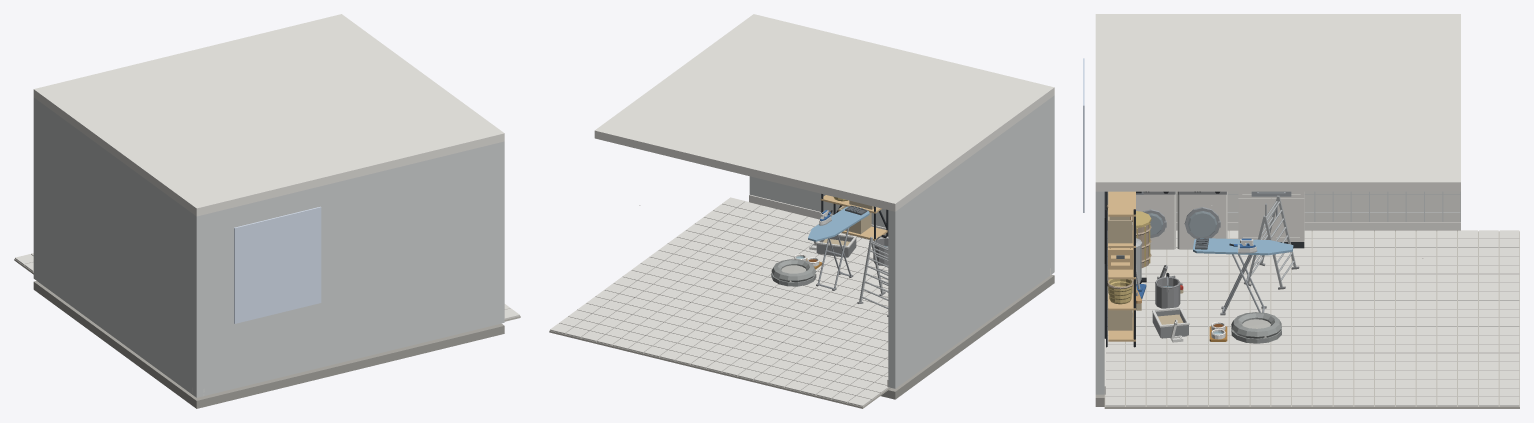
The model's file is SM_LPI_Room_Utility.fbx.
3 renders of one model, left to right at view 1: azimuth 30°, elevation 25°; view 2: azimuth 150°, elevation 25°; view 3: azimuth 270°, elevation 25°, orthographic. The views are drawn at different scales.
Visible parts, largest first — view 1: SM_LPI_Room_Utility, SM_LPI_Room_UtilityGlass; view 2: SM_LPI_Room_Utility, SM_LPI_Struct_Floor_06.005, SM_LPI_Struct_Floor_06.025, SM_LPI_Struct_Floor_06.015, SM_LPI_Struct_Floor_06.020, SM_LPI_Struct_Floor_06.010, SM_LPI_Struct_Floor_06.014, SM_LPI_Struct_Floor_06.022, SM_LPI_Struct_Floor_06.023, SM_LPI_Struct_Floor_06.024, SM_LPI_Struct_Floor_06.019, SM_LPI_Struct_Floor_06.009 (+15 smaller); view 3: SM_LPI_Room_Utility, SM_LPI_Struct_Floor_06.022, SM_LPI_Struct_Floor_06.023, SM_LPI_Struct_Floor_06.024, SM_LPI_Struct_Floor_06.025, SM_LPI_Struct_Floor_06.021, SM_LPI_Struct_Floor_06.009, SM_LPI_Struct_Floor_06.004, SM_LPI_Struct_Floor_06.014, SM_LPI_Struct_Floor_06.019, SM_LPI_Kitchen_SinkBase_01.001, SM_LPI_Struct_Floor_06.005 (+28 smaller).
Part boxes in pixels (bbox=[...]): SM_LPI_Room_Utility: bbox=[33, 14, 504, 408]; SM_LPI_Room_UtilityGlass: bbox=[234, 206, 321, 323]; SM_LPI_Room_Utility: bbox=[594, 14, 1054, 399]; SM_LPI_Struct_Floor_06.005: bbox=[800, 364, 890, 408]; SM_LPI_Struct_Floor_06.025: bbox=[549, 303, 647, 347]; SM_LPI_Struct_Floor_06.015: bbox=[674, 334, 772, 378]; SM_LPI_Struct_Floor_06.020: bbox=[612, 318, 710, 362]; SM_LPI_Struct_Floor_06.010: bbox=[737, 349, 835, 393]; SM_LPI_Struct_Floor_06.014: bbox=[711, 307, 808, 349]; SM_LPI_Struct_Floor_06.022: bbox=[658, 224, 756, 265]; SM_LPI_Struct_Floor_06.023: bbox=[622, 250, 719, 292]; SM_LPI_Struct_Floor_06.024: bbox=[586, 277, 683, 318]; SM_LPI_Struct_Floor_06.019: bbox=[649, 292, 746, 333]; SM_LPI_Struct_Floor_06.009: bbox=[774, 323, 871, 364]; SM_LPI_Room_Utility: bbox=[1095, 14, 1460, 406]; SM_LPI_Struct_Floor_06.022: bbox=[1187, 370, 1270, 408]; SM_LPI_Struct_Floor_06.023: bbox=[1270, 370, 1353, 408]; SM_LPI_Struct_Floor_06.024: bbox=[1353, 370, 1436, 408]; SM_LPI_Struct_Floor_06.025: bbox=[1437, 370, 1519, 408]; SM_LPI_Struct_Floor_06.021: bbox=[1104, 370, 1187, 408]; SM_LPI_Struct_Floor_06.009: bbox=[1353, 265, 1436, 301]; SM_LPI_Struct_Floor_06.004: bbox=[1353, 230, 1436, 266]; SM_LPI_Struct_Floor_06.014: bbox=[1353, 300, 1436, 336]; SM_LPI_Struct_Floor_06.019: bbox=[1353, 335, 1436, 371]; SM_LPI_Kitchen_SinkBase_01.001: bbox=[1238, 191, 1304, 248]; SM_LPI_Struct_Floor_06.005: bbox=[1437, 230, 1519, 266].
Size of the model in its own units: 5.11 by 2.98 by 5.26.
